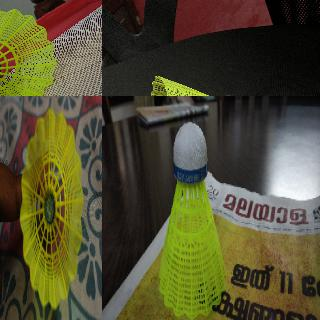shuttlecock: (160, 122, 226, 319), (19, 108, 82, 310), (0, 9, 57, 95), (150, 75, 242, 95)
